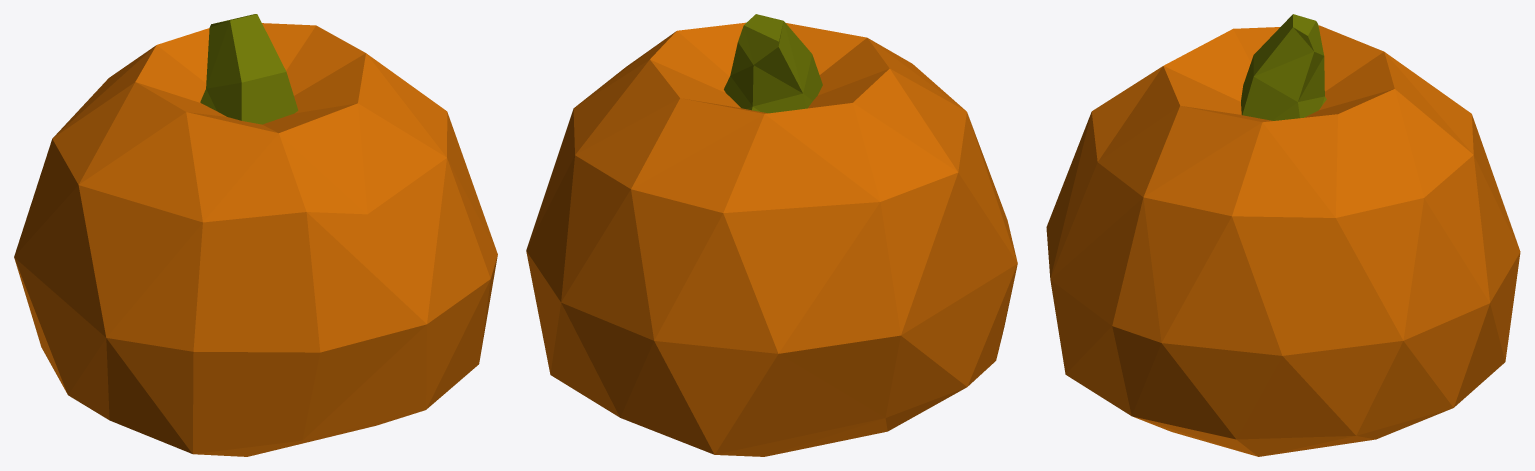
Rendered from LPHorror_RoundPumpkin.fbx.
3 views of the same model, side by side, from view 1: azimuth 30°, elevation 25°; view 2: azimuth 150°, elevation 25°; view 3: azimuth 270°, elevation 25° (orthographic). The views are drawn at different scales.
Visible parts, largest first — view 1: RoundPumpkin; view 2: RoundPumpkin; view 3: RoundPumpkin.
Boxes of the visible parts, x1=… form: RoundPumpkin: x1=14, y1=14, x2=497, y2=456; RoundPumpkin: x1=526, y1=14, x2=1017, y2=456; RoundPumpkin: x1=1046, y1=14, x2=1520, y2=456.
Size of the model in its own units: 59.75 by 53.88 by 61.11.
